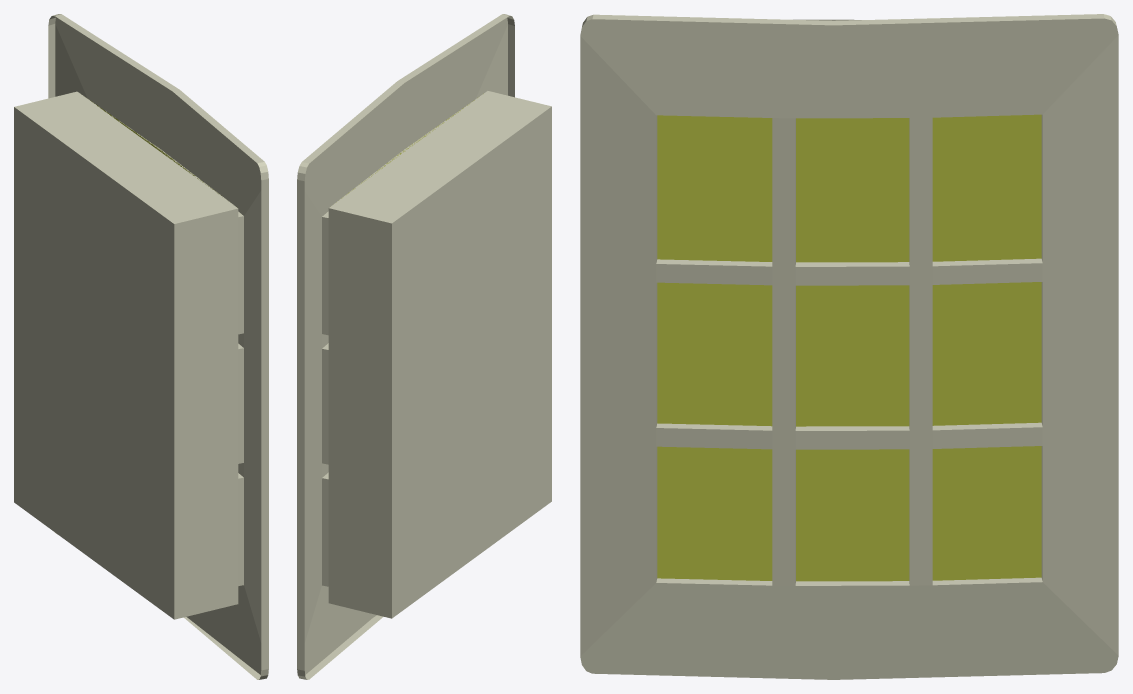
Rendered from WallLight.fbx.
3 renders of one model, left to right at view 1: azimuth 30°, elevation 25°; view 2: azimuth 150°, elevation 25°; view 3: azimuth 270°, elevation 25°, orthographic. The views are drawn at different scales.
Visible parts, largest first — view 1: Light_Wall_Low; view 2: Light_Wall_Low; view 3: Light_Wall_Low.
Boxes of the visible parts, x1=… form: Light_Wall_Low: x1=14, y1=14, x2=268, y2=679; Light_Wall_Low: x1=297, y1=14, x2=551, y2=679; Light_Wall_Low: x1=580, y1=14, x2=1118, y2=679.
Bounding box in the file's own units: 11.78 × 72.59 × 54.12.
